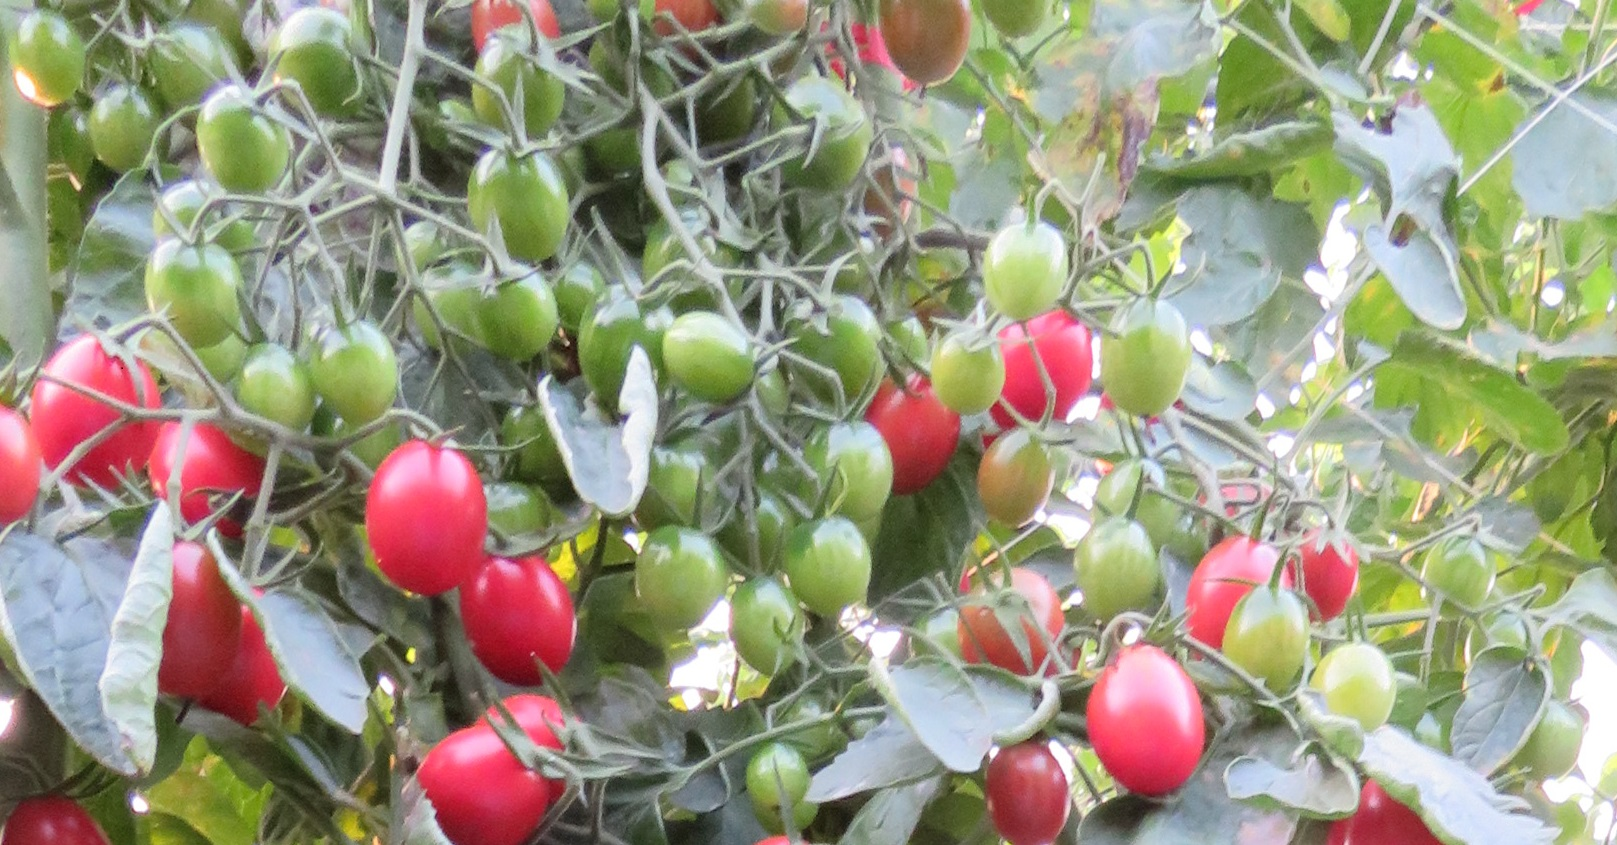green: (461, 144, 573, 262), (139, 233, 253, 348), (572, 281, 669, 414), (269, 13, 372, 132), (1218, 581, 1315, 705), (631, 202, 743, 309), (770, 78, 878, 187), (1100, 285, 1187, 418), (784, 296, 881, 415), (777, 516, 880, 621), (314, 309, 409, 424), (627, 521, 720, 635), (473, 29, 570, 138), (141, 21, 244, 124), (464, 262, 570, 360), (199, 90, 290, 201), (228, 327, 314, 444), (1074, 521, 1164, 623), (971, 422, 1056, 531), (1305, 637, 1393, 740), (719, 574, 804, 677), (983, 216, 1068, 318), (5, 12, 91, 111), (94, 83, 175, 186), (657, 310, 757, 390), (1511, 692, 1592, 790), (813, 424, 894, 521), (631, 445, 731, 523), (1094, 454, 1167, 554), (931, 322, 1006, 415), (1417, 534, 1488, 632), (745, 746, 820, 838)
orange: (956, 564, 1073, 690), (871, 1, 977, 89)
red: (358, 437, 484, 604), (1085, 641, 1210, 797), (34, 343, 164, 482), (154, 547, 252, 697), (467, 557, 581, 683), (413, 731, 549, 828), (1012, 296, 1106, 420), (161, 421, 262, 524), (990, 742, 1085, 845), (1291, 531, 1366, 627)
